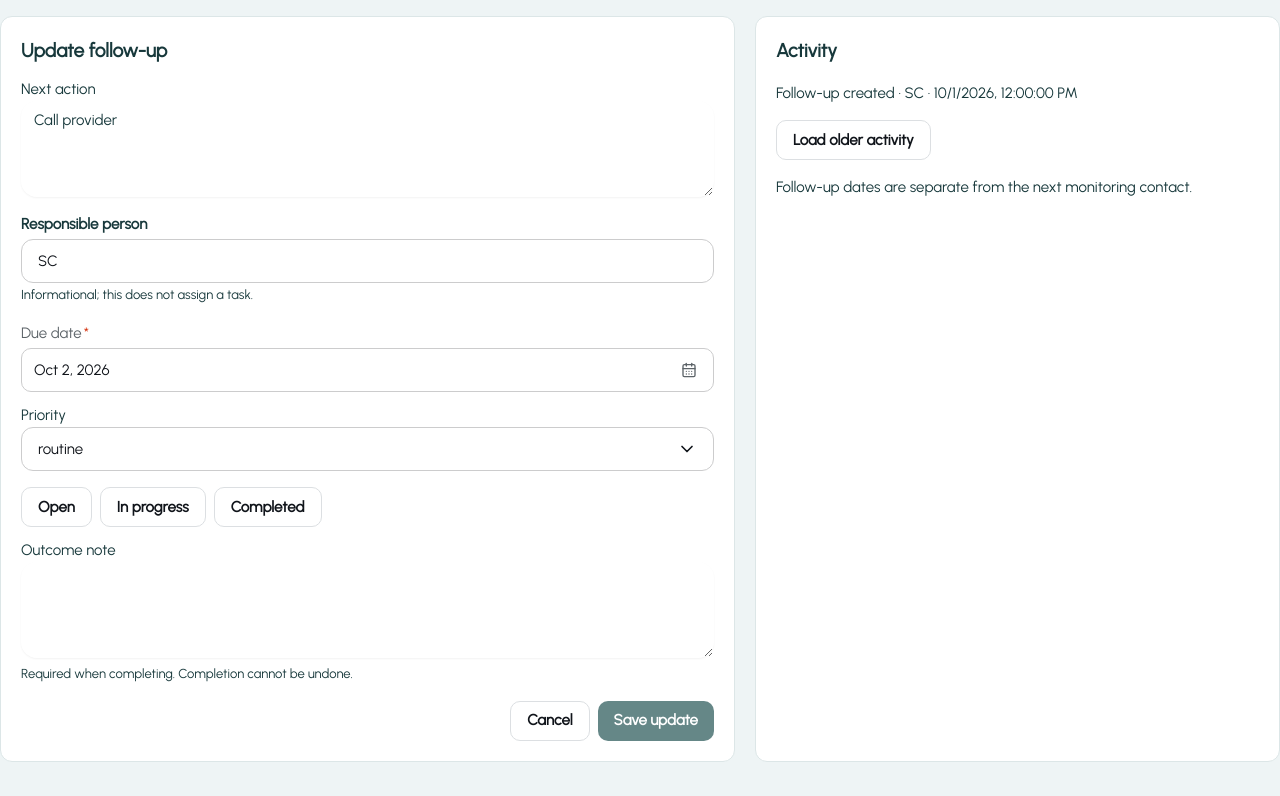
Test: typing while a clean background read is pending does not lose the draft
The image size is (1280, 796).
Replace the text in the text box labelled "Next action" with "New unsaved action" at (368, 148), box [21,100,714,196]
(page scrolled)
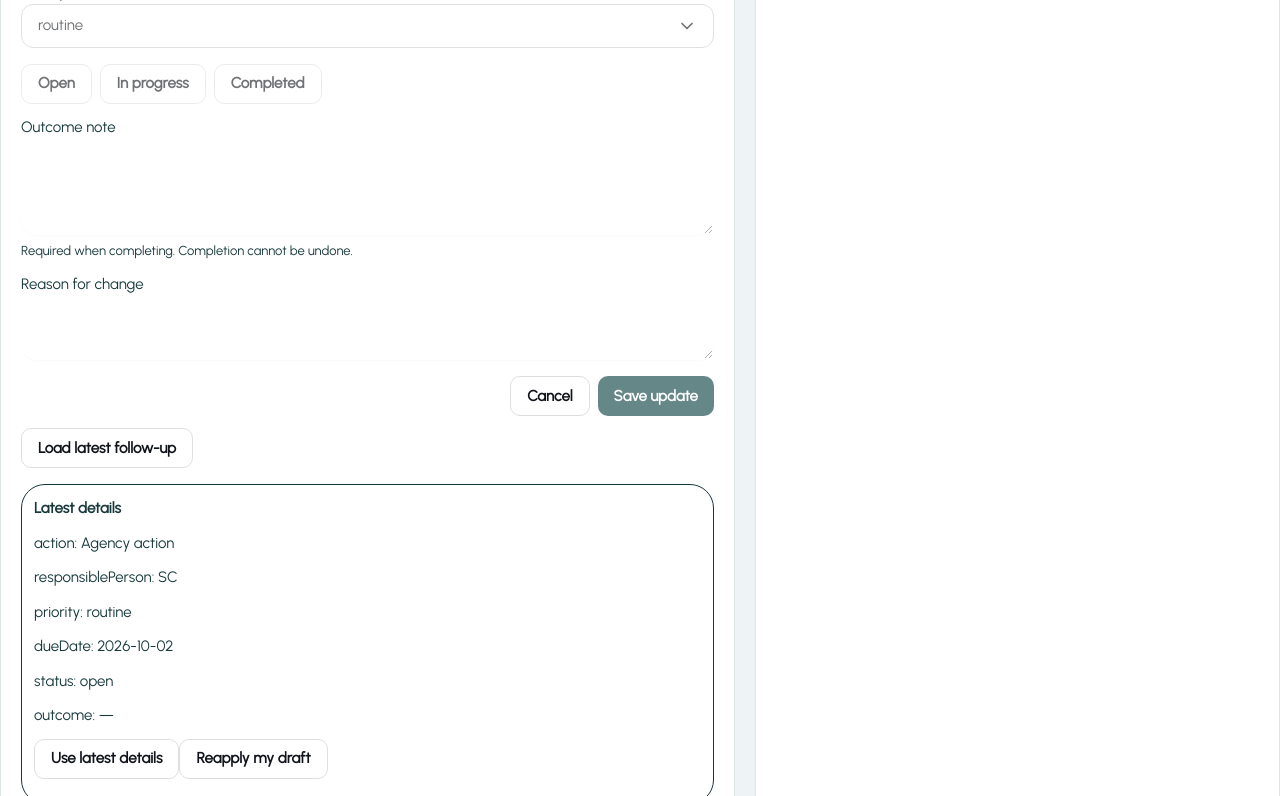
Check: the button "Save update" is disabled, box [598,376,714,416]
Check: the heading "Latest details" is shown, box [34,499,121,517]
